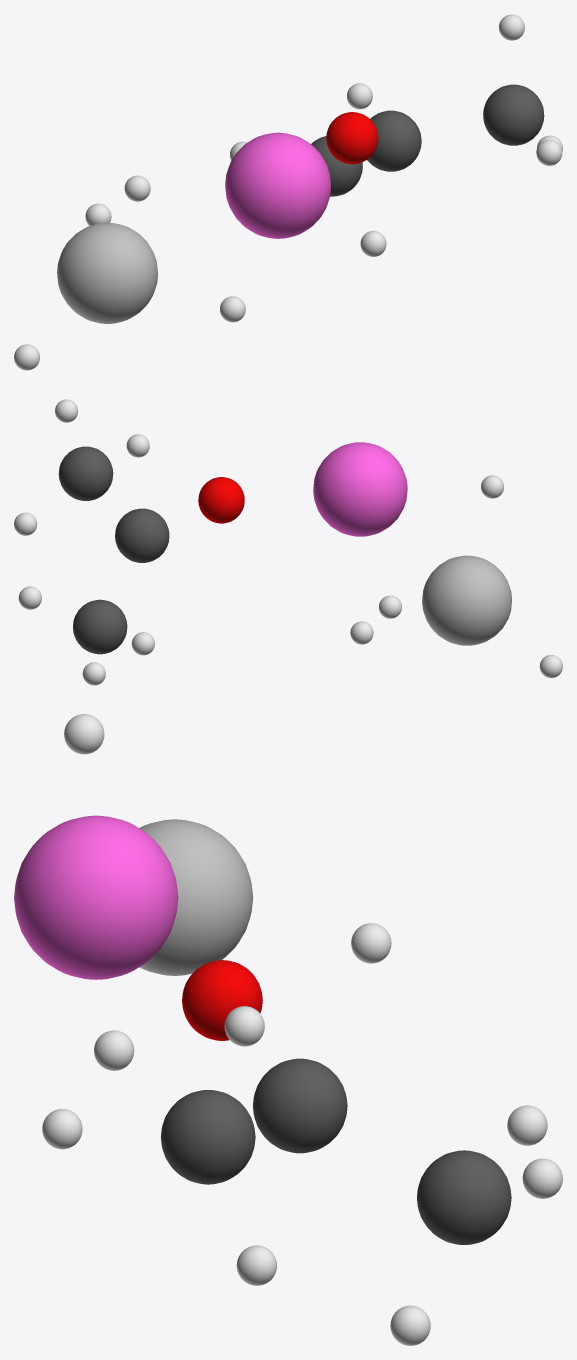
Rendered from AdN_Red_Acetone.fbx.
The picture shows the model from 3 angles, top to bottom: view 1: azimuth 30°, elevation 25°; view 2: azimuth 150°, elevation 25°; view 3: azimuth 270°, elevation 25°; orthographic projection. The views are drawn at different scales.
Parts seen in each view (by area): view 1: Li16, Al11, C02, C01, O10, C06, H04, H07, H14, H03, H13, H09 (+2 smaller); view 2: Li16, Al11, C01, C06, C02, O10, H04, H12, H07, H09, H13, H03 (+4 smaller); view 3: Li16, Al11, C01, C02, C06, O10, H07, H04, H03, H05, H12, H13 (+3 smaller).
Boxes of the visible parts, x1,y1,x2,y2 form: Li16: (225,132,330,238); Al11: (57,222,157,323); C02: (483,84,544,145); C01: (367,110,421,171); O10: (326,112,378,164); C06: (311,136,362,196); H04: (536,139,562,165); H07: (360,231,386,256); H14: (14,344,39,370); H03: (499,14,524,40); H13: (124,175,150,201); H09: (347,83,372,109); Li16: (313,442,407,536); Al11: (422,555,511,645); C01: (115,508,169,562); C06: (73,599,127,654); C02: (58,446,113,500); O10: (198,477,244,523); H04: (126,434,149,457); H12: (350,621,373,644); H07: (82,662,105,685); H09: (18,586,41,609); H13: (481,475,503,498); H03: (55,399,78,422); Li16: (14,815,178,979); Al11: (139,819,253,975); C01: (253,1058,347,1153); C02: (160,1090,255,1184); C06: (417,1150,511,1244); O10: (182,960,262,1040); H07: (390,1305,430,1345); H04: (42,1109,82,1149); H03: (224,1006,264,1046); H05: (236,1245,276,1285); H12: (351,923,391,963); H13: (64,714,104,754).
Size of the model in its own units: 818 by 349 by 434.
